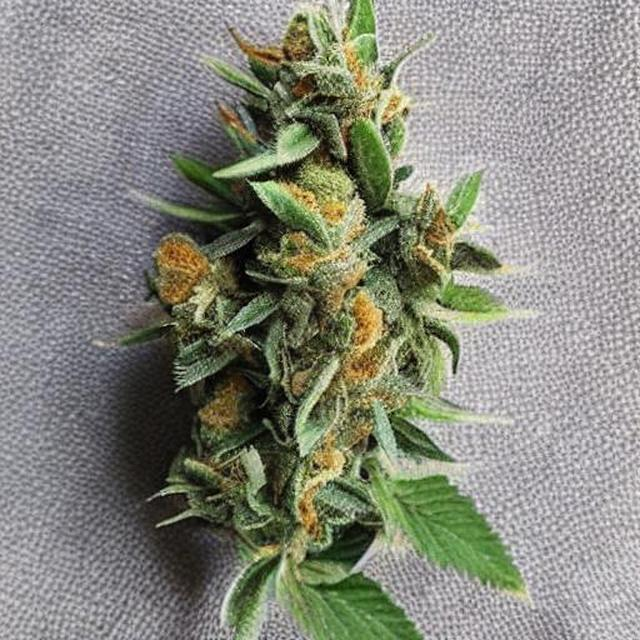Marijuana Plant: (0, 66, 565, 640)
